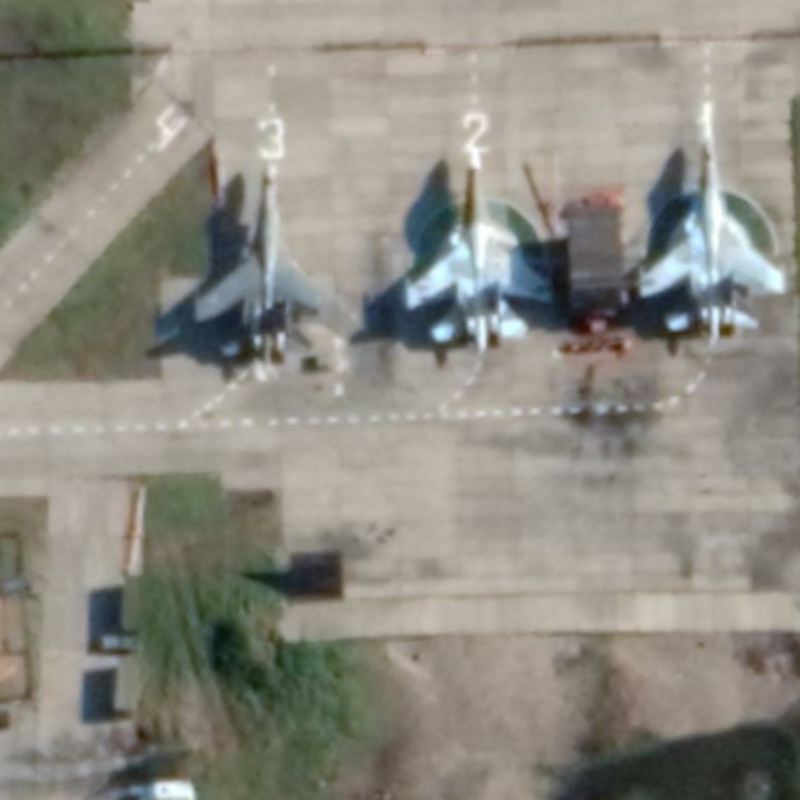A1: (398, 141, 558, 357), (630, 135, 789, 349), (188, 159, 333, 368)
